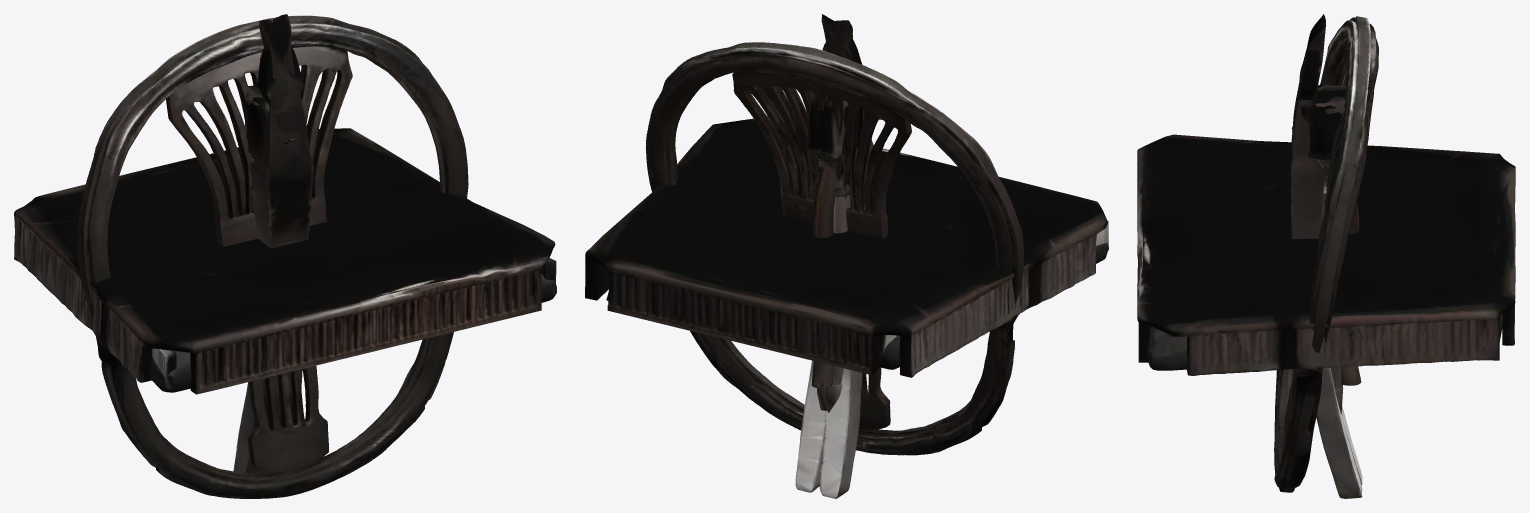
3 views of the same model, side by side, from view 1: azimuth 30°, elevation 25°; view 2: azimuth 150°, elevation 25°; view 3: azimuth 270°, elevation 25° (orthographic). The views are drawn at different scales.
Visible parts, largest first — view 1: root.0, root.1.0, root.3, root.1.1, root.1.2, root.2, root.6, root.4; view 2: root.0, root.1.0, root.3, root.1.2, root.1.1, root.5, root.6, root.10, root.9, root.2; view 3: root.0, root.1.0, root.1.2, root.1.1, root.5, root.3, root.6, root.2, root.4.
Boxes of the visible parts, x1,y1,x2,y2 form: root.0: [14, 128, 555, 394]; root.1.0: [77, 15, 468, 498]; root.3: [166, 46, 352, 472]; root.1.1: [250, 19, 304, 471]; root.1.2: [233, 14, 313, 473]; root.2: [149, 274, 556, 392]; root.6: [246, 97, 269, 159]; root.4: [152, 258, 556, 382]; root.0: [585, 118, 1107, 377]; root.1.0: [645, 42, 1023, 455]; root.3: [732, 71, 911, 429]; root.1.2: [819, 14, 862, 498]; root.1.1: [795, 20, 873, 492]; root.5: [815, 94, 850, 412]; root.6: [807, 94, 863, 410]; root.10: [811, 167, 837, 388]; root.9: [812, 166, 834, 388]; root.2: [606, 243, 1108, 369]; root.0: [1137, 134, 1515, 375]; root.1.0: [1274, 16, 1378, 492]; root.1.2: [1290, 24, 1362, 484]; root.1.1: [1290, 14, 1362, 498]; root.5: [1300, 85, 1346, 386]; root.3: [1284, 57, 1346, 446]; root.6: [1313, 84, 1345, 414]; root.2: [1146, 314, 1502, 370]; root.4: [1152, 321, 1499, 357].
Bounding box in the file's own units: 16558 × 18594 × 13595.
Materials: 1 (1 with a texture image).
